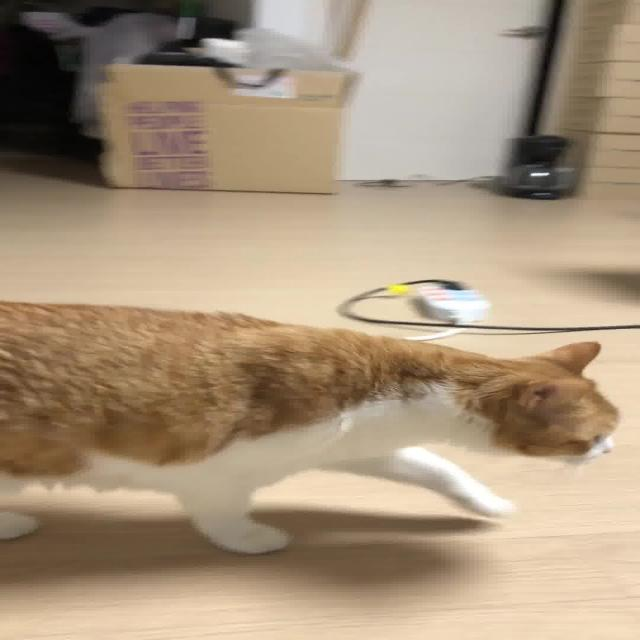cat: (1, 293, 626, 562)
